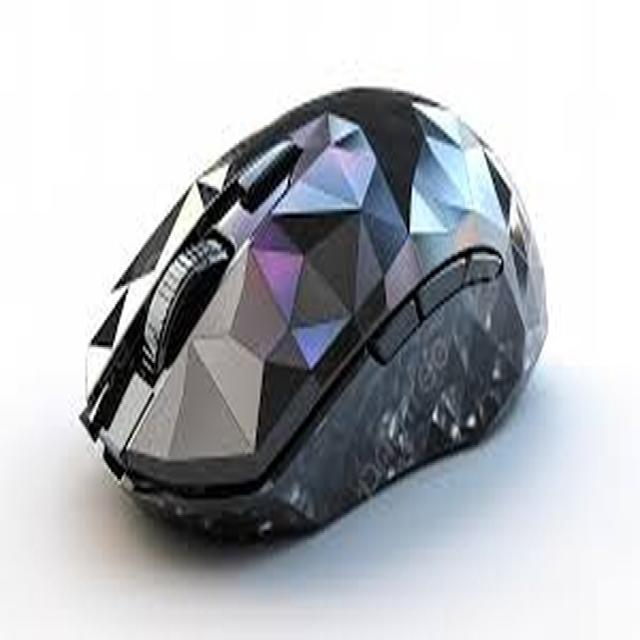mouse: (71, 80, 594, 542)
